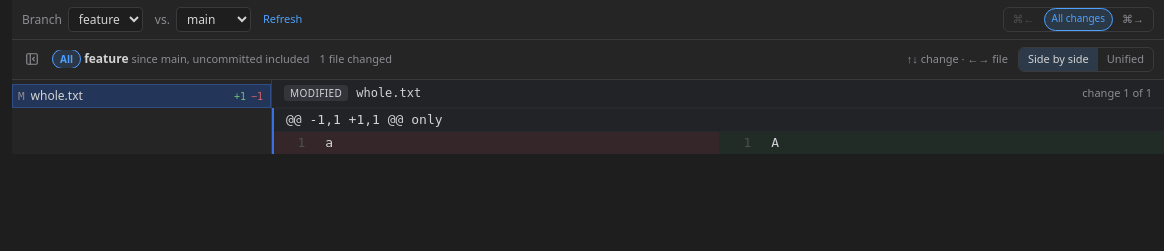
Test: DiffBrowserView — commits and the local-changes slot together › opens on the whole branch, then steps to local changes and each of its commits
This screenshot has width=1164, height=251.
Check: the text "All changes" is shown, box top-left (1044, 8), bottom-right (1113, 31)
Check: the text "A" is shown, box top-left (771, 134), bottom-right (779, 150)
What coordinates should you click on to do the following:
click the button named "Next commit"
I would click on:
 (1133, 20)
Its box is top-left (1113, 8), bottom-right (1153, 31).
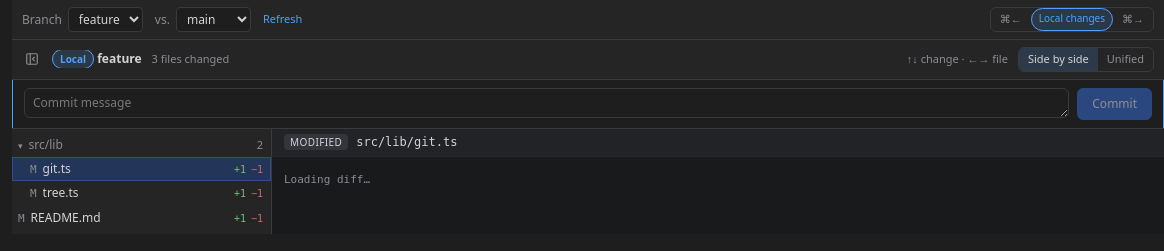
Check: the text "Local changes" is shown, box top-left (1031, 8), bottom-right (1113, 31)
Check: the text "git.ts" is shown, box top-left (43, 160), bottom-right (71, 176)
What coordinates should you click on to do the following:
click the button named "Next commit"
I would click on:
 (1133, 20)
Its box is top-left (1113, 8), bottom-right (1153, 31).
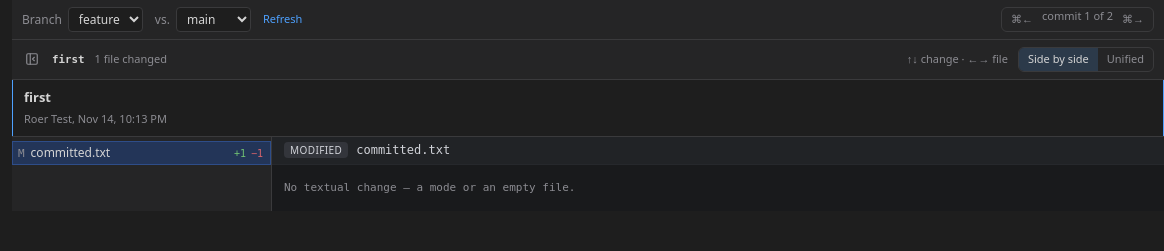
Check: the text "commit 1 of 2" is shown, box top-left (1042, 8), bottom-right (1113, 31)
Check: the text with class "name" reads "committed.txt", box top-left (31, 144), bottom-right (110, 160)
